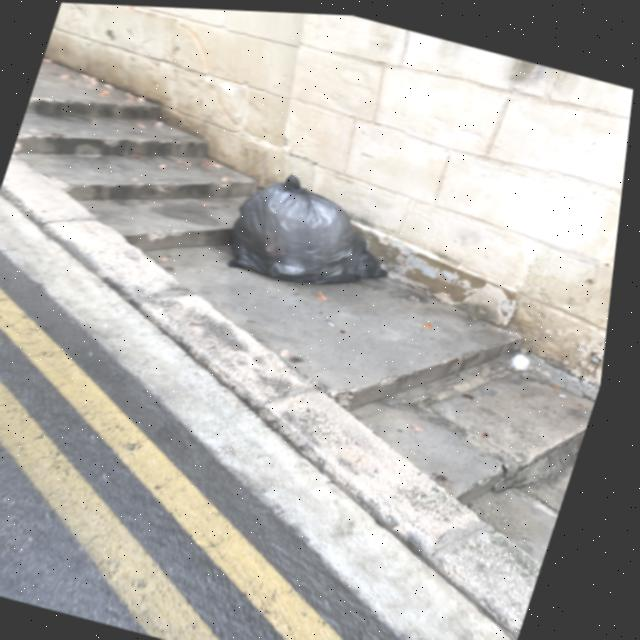Mixed Waste -Black Bag-: (226, 162, 420, 305)
